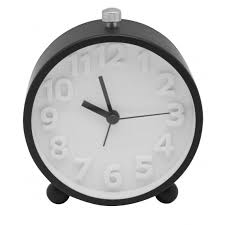alarm_clock: (22, 2, 201, 205), (22, 7, 201, 205), (34, 2, 201, 205)
